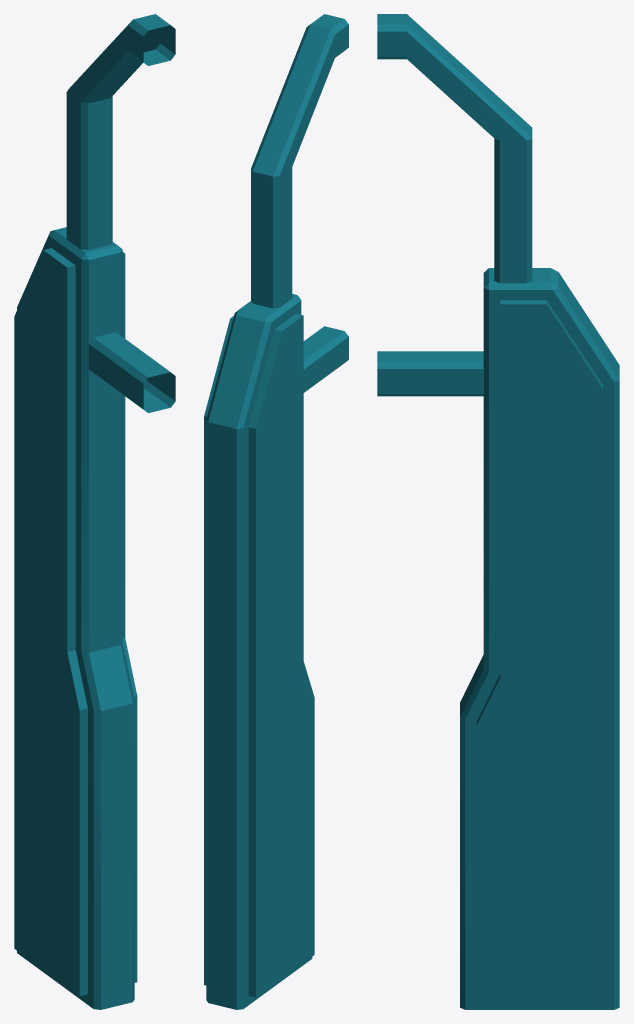
File: Mesh_Plattform_Carrier_01.FBX
3 views of the same model, side by side, from view 1: azimuth 30°, elevation 25°; view 2: azimuth 150°, elevation 25°; view 3: azimuth 270°, elevation 25° (orthographic). The views are drawn at different scales.
Visible parts, largest first — view 1: Mesh_Plattform_Carrier_01; view 2: Mesh_Plattform_Carrier_01; view 3: Mesh_Plattform_Carrier_01.
Boxes of the visible parts, <box> form: Mesh_Plattform_Carrier_01: <box>14,14,175,1009</box>; Mesh_Plattform_Carrier_01: <box>204,14,348,1009</box>; Mesh_Plattform_Carrier_01: <box>377,14,619,1009</box>.
Size of the model in its own units: 155 by 2586 by 579.
